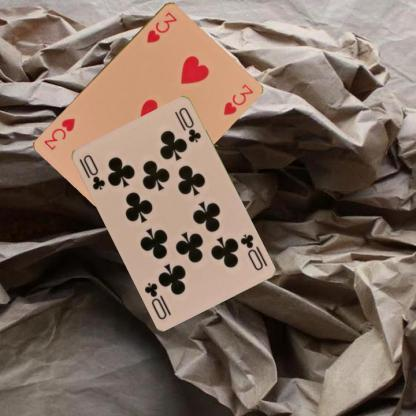10c: (237, 232, 269, 272), (80, 152, 107, 191)
3h: (144, 9, 178, 44)
